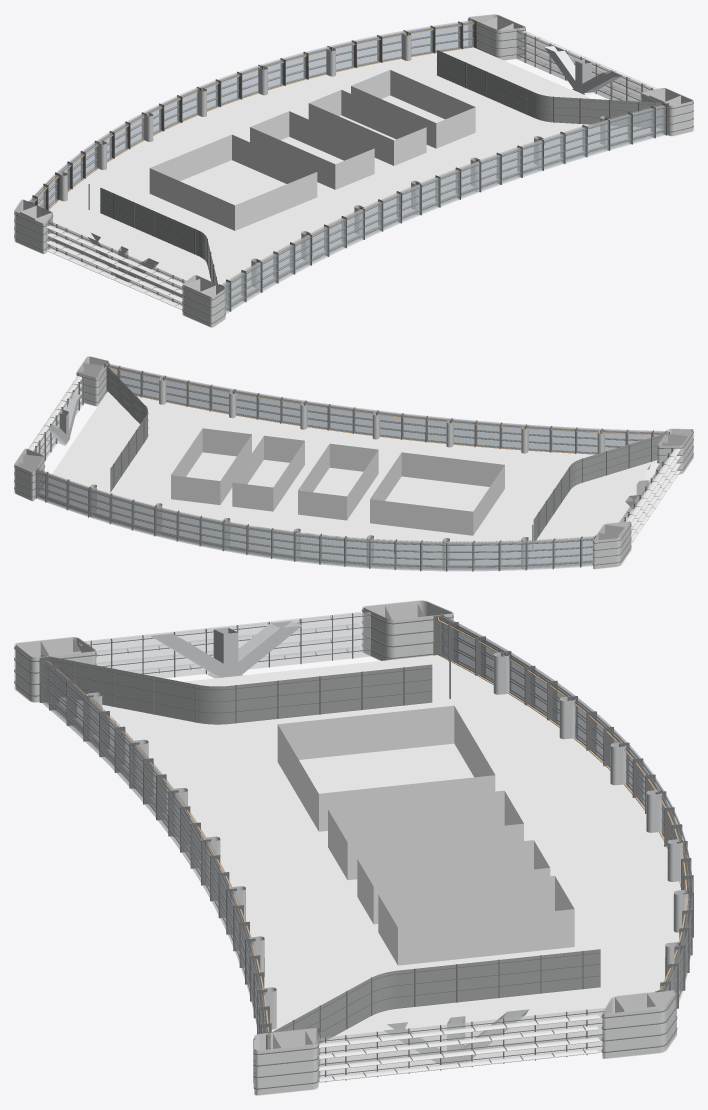
The picture shows the model from 3 angles, top to bottom: view 1: azimuth 30°, elevation 25°; view 2: azimuth 150°, elevation 25°; view 3: azimuth 270°, elevation 25°; orthographic projection. The views are drawn at different scales.
Parts seen in each view (by area): view 1: floor.037; view 2: floor.037; view 3: floor.037.
Part boxes in pixels (box(x1,y1,x2,y2)): floor.037: box(14, 14, 693, 327); floor.037: box(14, 356, 693, 571); floor.037: box(14, 600, 693, 1095).
Size of the model in its own units: 82.01 by 3.79 by 52.23.
14 materials, 1 textured.
